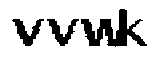k: (117, 6, 148, 52)
v: (6, 13, 46, 49), (47, 12, 82, 48)
w: (80, 17, 121, 49)
